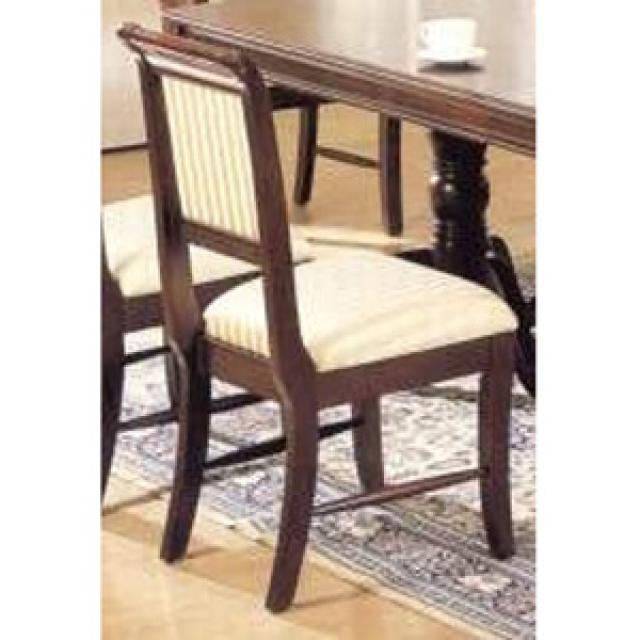chair: (113, 19, 518, 612)
